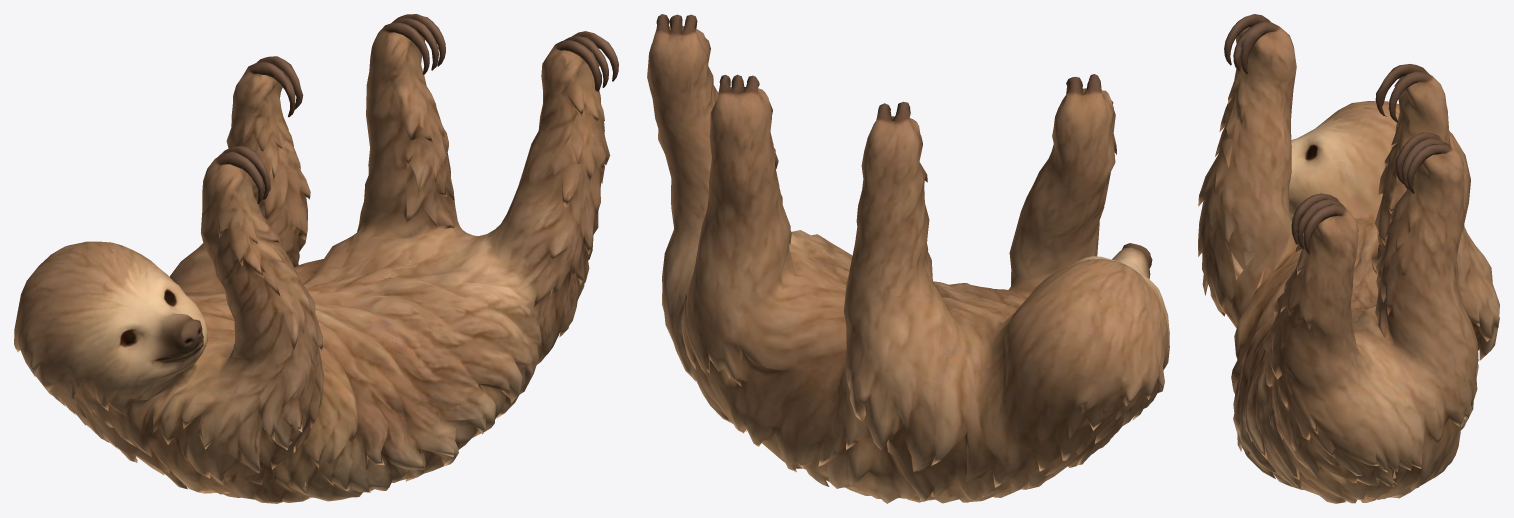
The model's file is sloth-urin.glb.
The picture shows the model from 3 angles, left to right: view 1: azimuth 30°, elevation 25°; view 2: azimuth 150°, elevation 25°; view 3: azimuth 270°, elevation 25°; orthographic projection. The views are drawn at different scales.
Visible parts, largest first — view 1: geometry_0; view 2: geometry_0; view 3: geometry_0.
Boxes of the visible parts, x1,y1,x2,y2 form: geometry_0: [14, 14, 618, 503]; geometry_0: [647, 14, 1169, 503]; geometry_0: [1198, 14, 1499, 503].
Size of the model in its own units: 0.9565 by 0.6958 by 0.4746.
Materials: 1 (1 with a texture image).
